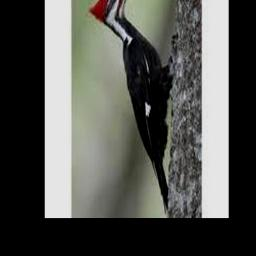Woodpecker: (88, 0, 173, 213)
